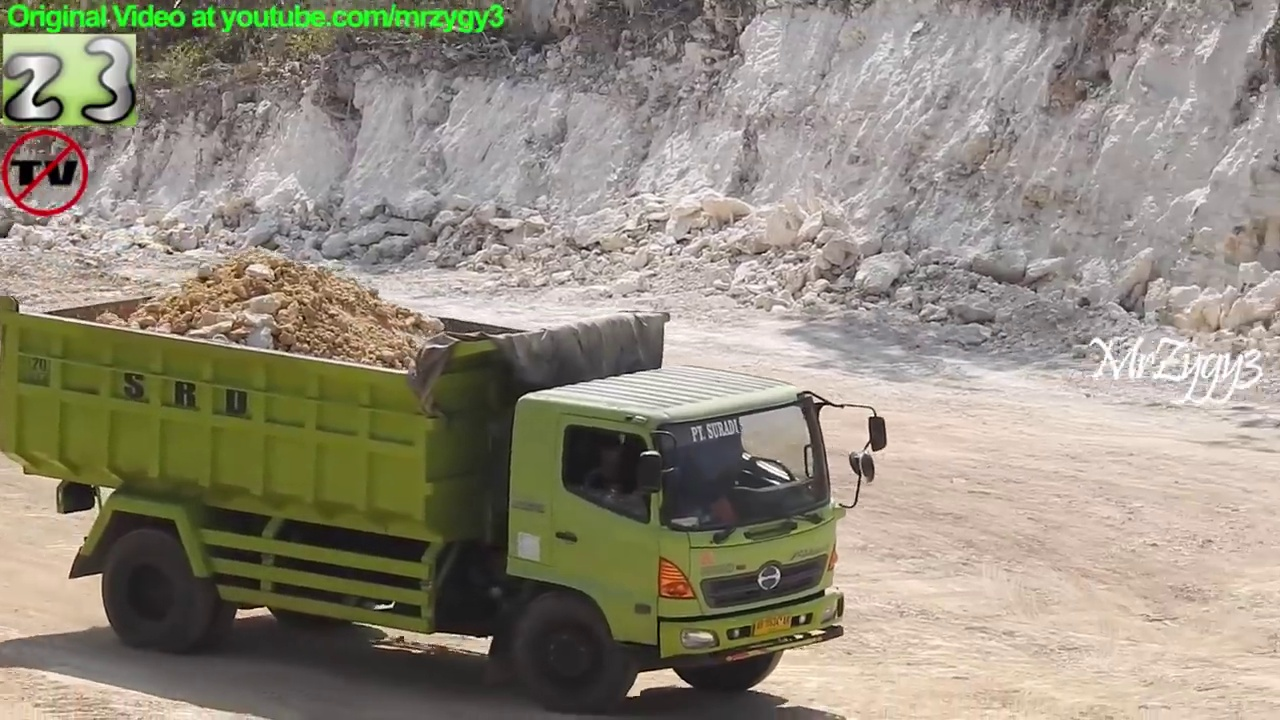truck: (1, 282, 892, 719)
